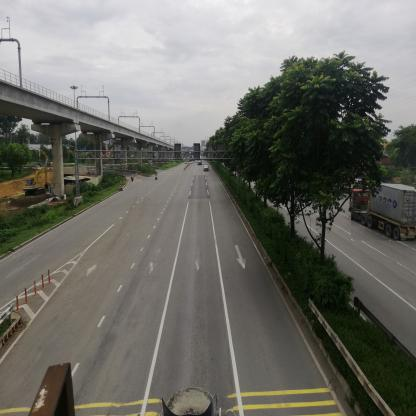car: (205, 166, 210, 172)
container: (352, 185, 416, 242)
motorbike: (119, 182, 123, 192), (131, 175, 135, 183), (157, 174, 159, 181)
